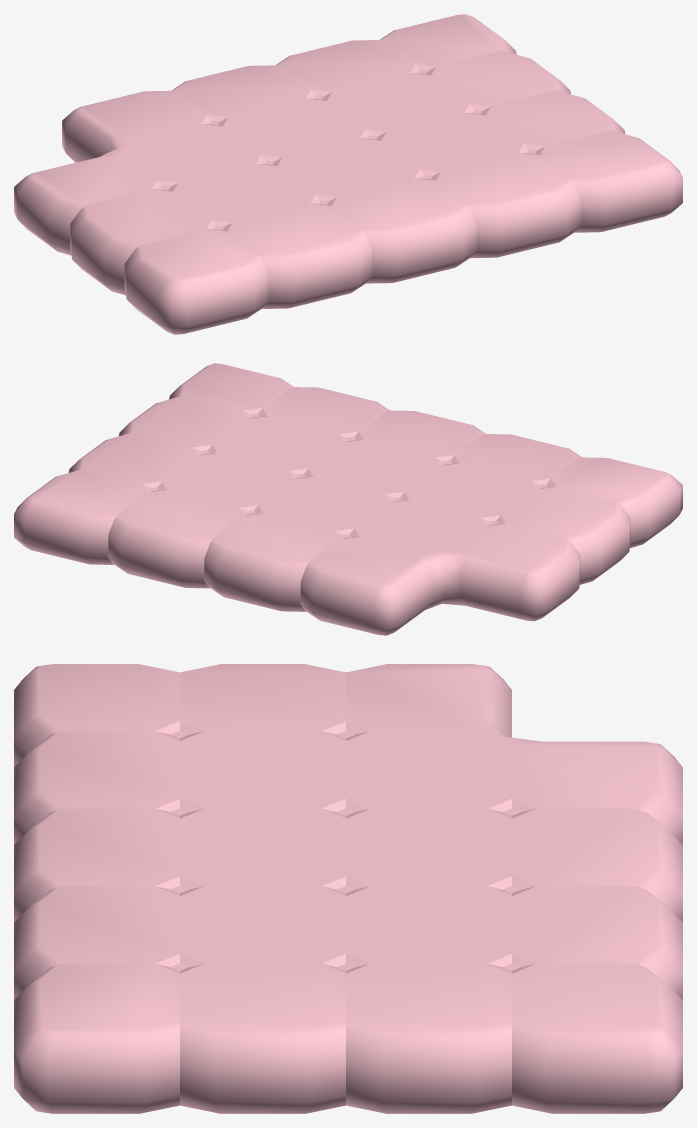
File: BG_cloud6.fbx
3 views of the same model, one above another, from view 1: azimuth 30°, elevation 25°; view 2: azimuth 150°, elevation 25°; view 3: azimuth 270°, elevation 25° (orthographic). The views are drawn at different scales.
Parts seen in each view (by area): view 1: BG_cloud6; view 2: BG_cloud6; view 3: BG_cloud6.
Part boxes in pixels (box(x1,y1,x2,y2)): BG_cloud6: box(14, 14, 682, 334); BG_cloud6: box(14, 363, 682, 635); BG_cloud6: box(14, 664, 682, 1113).
Bounding box in the file's own units: 211 × 21.08 × 154.
